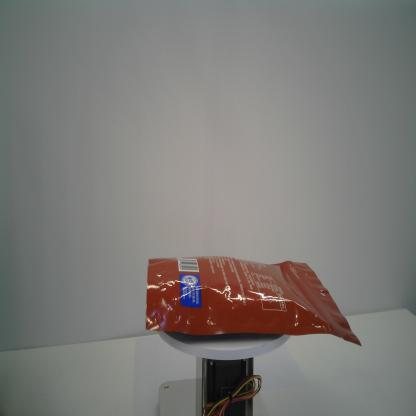Dried Food: (144, 255, 362, 347)
